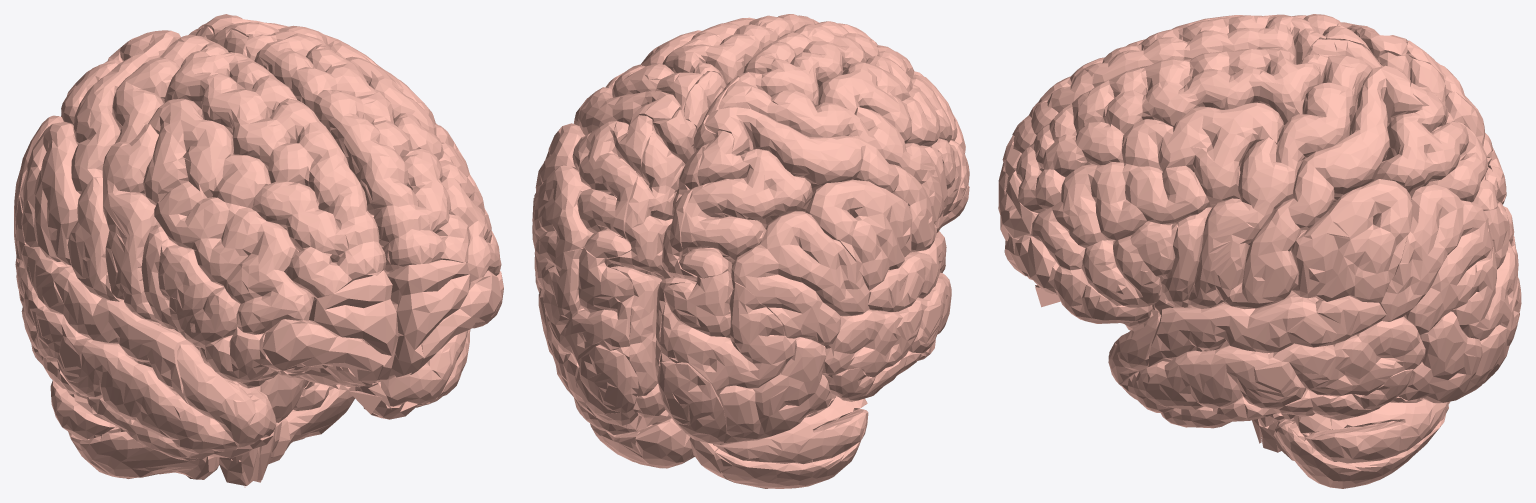
Rendered from Allen_M_Brain_0.2.glb.
3 renders of one model, left to right at view 1: azimuth 30°, elevation 25°; view 2: azimuth 150°, elevation 25°; view 3: azimuth 270°, elevation 25°, orthographic. The views are drawn at different scales.
Parts seen in each view (by area): view 1: Allen_superior_frontal_gyrus_L, Allen_middle_frontal_gyrus_L, Allen_superior_frontal_gyrus_R, Allen_middle_temporal_gyrus_L, Allen_precentral_gyrus_L, Allen_postcentral_gyrus_L, Allen_superior_temporal_gyrus_L, Allen_middle_frontal_gyrus_R, Allen_supramarginal_gyrus_L, Allen_rostral_gyrus_R, Allen_lateral_hemisphere_of_cerebellum_L, Allen_inferior_frontal_gyrus_triangular_part_L (+19 smaller); view 2: Allen_angular_gyrus_L, Allen_supraparietal_lobule_L, Allen_superior_occipital_gyrus_L, Allen_postcentral_gyrus_L, Allen_lateral_hemisphere_of_cerebellum_L, Allen_superior_occipital_gyrus_R, Allen_precentral_gyrus_L, Allen_supraparietal_lobule_R, Allen_supramarginal_gyrus_L, Allen_middle_frontal_gyrus_L, Allen_superior_frontal_gyrus_L, Allen_middle_temporal_gyrus_L (+24 smaller); view 3: Allen_middle_frontal_gyrus_R, Allen_superior_frontal_gyrus_R, Allen_middle_temporal_gyrus_R, Allen_precentral_gyrus_R, Allen_postcentral_gyrus_R, Allen_supramarginal_gyrus_R, Allen_angular_gyrus_R, Allen_superior_temporal_gyrus_R, Allen_lateral_hemisphere_of_cerebellum_R, Allen_superior_frontal_gyrus_L, Allen_supraparietal_lobule_R, Allen_inferior_frontal_gyrus_triangular_part_R (+16 smaller).
Part boxes in pixels (box(x1,y1,x2,y2)): Allen_superior_frontal_gyrus_L: box(164, 43, 386, 299); Allen_middle_frontal_gyrus_L: box(143, 98, 314, 334); Allen_superior_frontal_gyrus_R: box(246, 31, 470, 272); Allen_middle_temporal_gyrus_L: box(16, 260, 237, 453); Allen_precentral_gyrus_L: box(102, 34, 209, 323); Allen_postcentral_gyrus_L: box(67, 30, 180, 301); Allen_superior_temporal_gyrus_L: box(21, 244, 197, 404); Allen_middle_frontal_gyrus_R: box(346, 56, 501, 281); Allen_supramarginal_gyrus_L: box(20, 122, 80, 265); Allen_rostral_gyrus_R: box(387, 259, 470, 377); Allen_lateral_hemisphere_of_cerebellum_L: box(50, 380, 206, 478); Allen_inferior_frontal_gyrus_triangular_part_L: box(158, 239, 240, 349); Allen_angular_gyrus_L: box(731, 211, 869, 345); Allen_supraparietal_lobule_L: box(679, 130, 812, 278); Allen_superior_occipital_gyrus_L: box(659, 271, 796, 397); Allen_postcentral_gyrus_L: box(704, 106, 936, 252); Allen_lateral_hemisphere_of_cerebellum_L: box(714, 396, 868, 488); Allen_superior_occipital_gyrus_R: box(543, 247, 634, 366); Allen_precentral_gyrus_L: box(718, 81, 944, 232); Allen_supraparietal_lobule_R: box(572, 115, 652, 257); Allen_supramarginal_gyrus_L: box(805, 179, 911, 290); Allen_middle_frontal_gyrus_L: box(818, 55, 965, 153); Allen_superior_frontal_gyrus_L: box(737, 21, 923, 107); Allen_middle_temporal_gyrus_L: box(822, 272, 951, 377); Allen_middle_frontal_gyrus_R: box(1031, 102, 1284, 270); Allen_superior_frontal_gyrus_R: box(1016, 49, 1327, 213); Allen_middle_temporal_gyrus_R: box(1121, 316, 1425, 412); Allen_precentral_gyrus_R: box(1187, 55, 1371, 308); Allen_postcentral_gyrus_R: box(1224, 65, 1423, 309); Allen_supramarginal_gyrus_R: box(1290, 179, 1413, 302); Allen_angular_gyrus_R: box(1379, 184, 1488, 334); Allen_superior_temporal_gyrus_R: box(1148, 295, 1386, 366); Allen_lateral_hemisphere_of_cerebellum_R: box(1267, 398, 1448, 488); Allen_superior_frontal_gyrus_L: box(1012, 14, 1326, 153); Allen_supraparietal_lobule_R: box(1372, 82, 1497, 210); Allen_inferior_frontal_gyrus_triangular_part_R: box(1081, 221, 1177, 307).
Bounding box in the file's own units: 0.1364 × 0.1478 × 0.1669.
